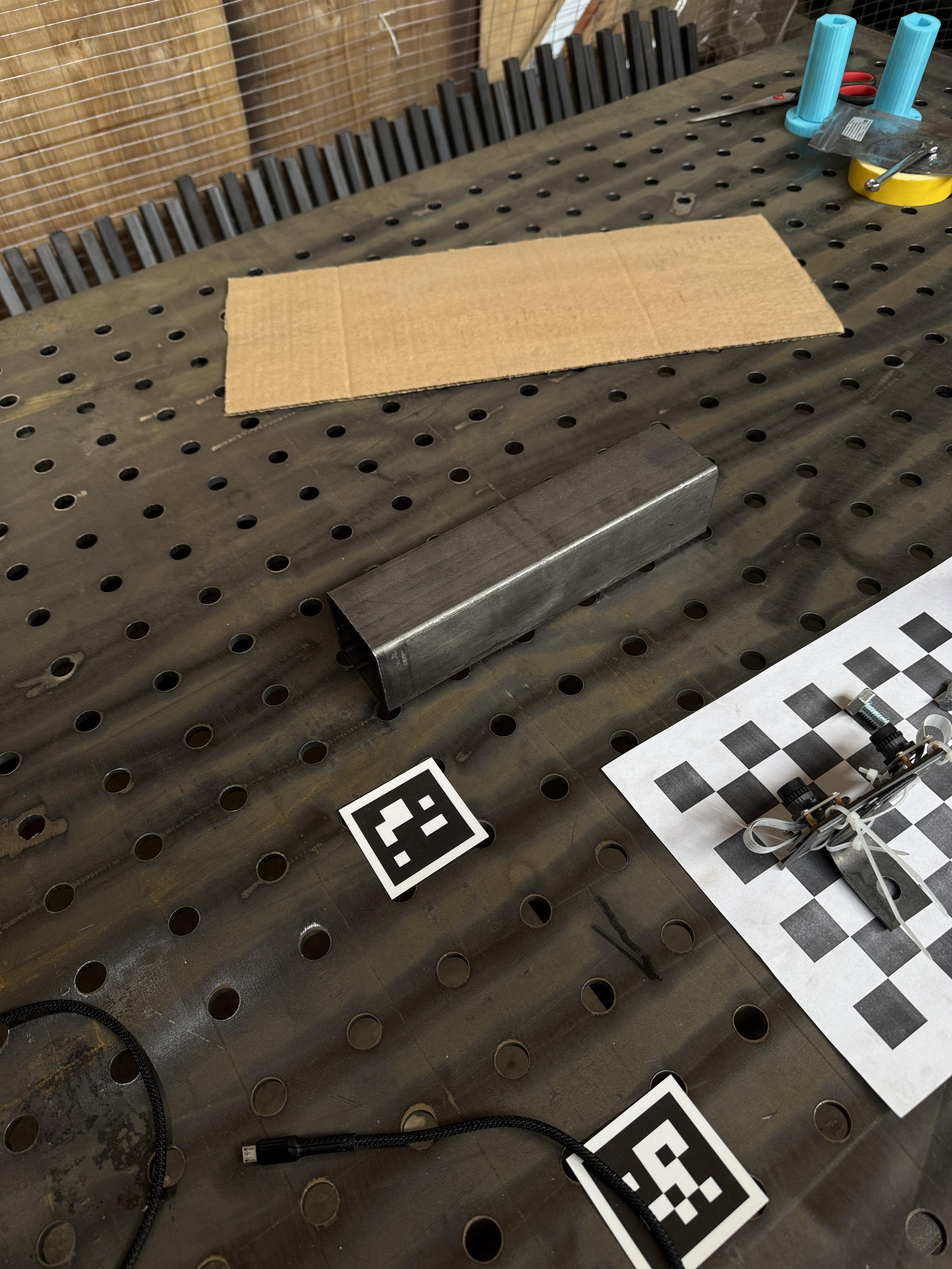detail: (326, 423, 720, 716)
